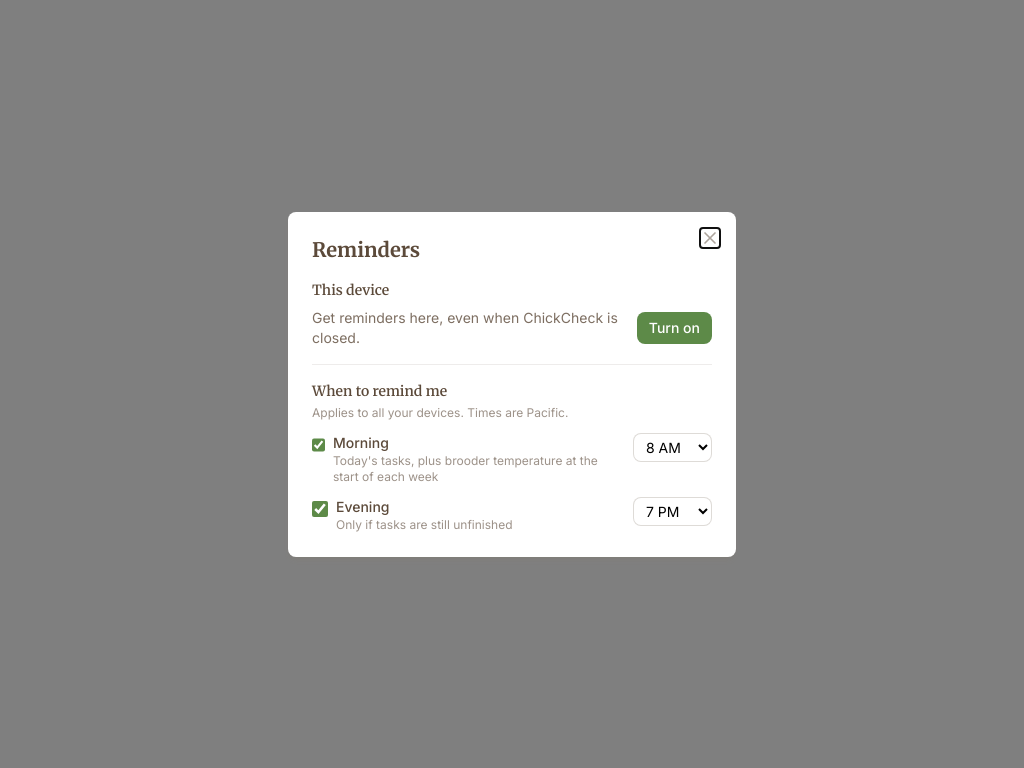
ReminderSettingsModal › should turn off the evening reminder
Click the checkbox labelled "Evening Only if tasks are still unfinished" at (320, 508), box [312,500,328,516]
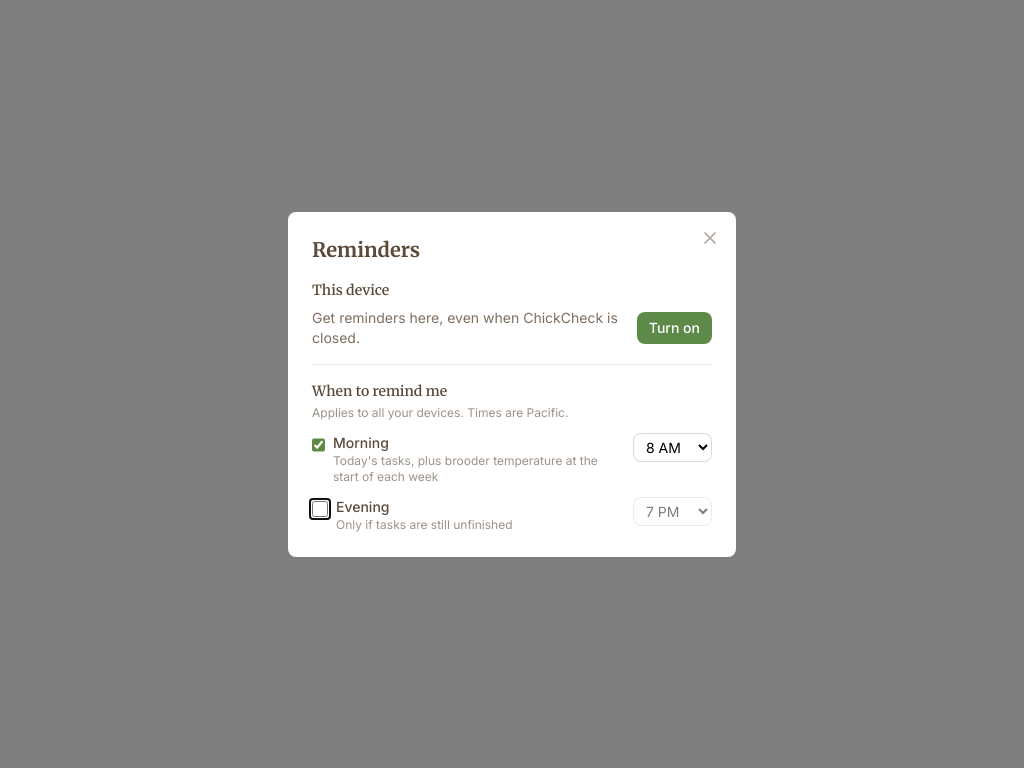
Expected: the dropdown named "evening reminder time" is disabled, [633,496,712,526]
